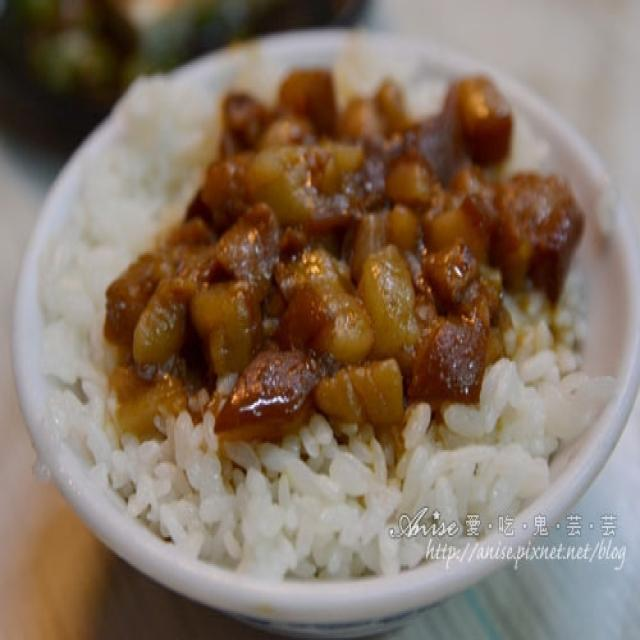猪肉菜式: (8, 18, 635, 609)
